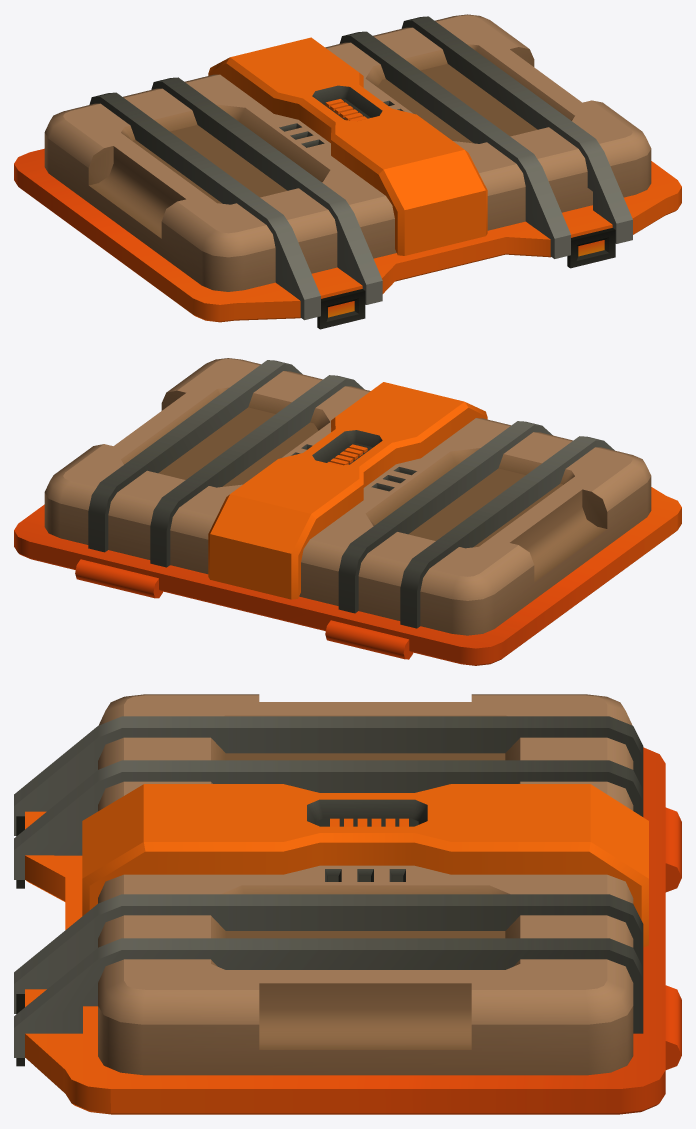
File: Container_05_Cap.fbx
3 renders of one model, top to bottom at view 1: azimuth 30°, elevation 25°; view 2: azimuth 150°, elevation 25°; view 3: azimuth 270°, elevation 25°, orthographic. The views are drawn at different scales.
Parts seen in each view (by area): view 1: Container_05_Cap; view 2: Container_05_Cap; view 3: Container_05_Cap.
Boxes of the visible parts, x1,y1,x2,y2 form: Container_05_Cap: (14, 14, 681, 329); Container_05_Cap: (14, 358, 681, 665); Container_05_Cap: (14, 694, 681, 1114).
Bounding box in the file's own units: 67.19 × 13.49 × 55.06.
